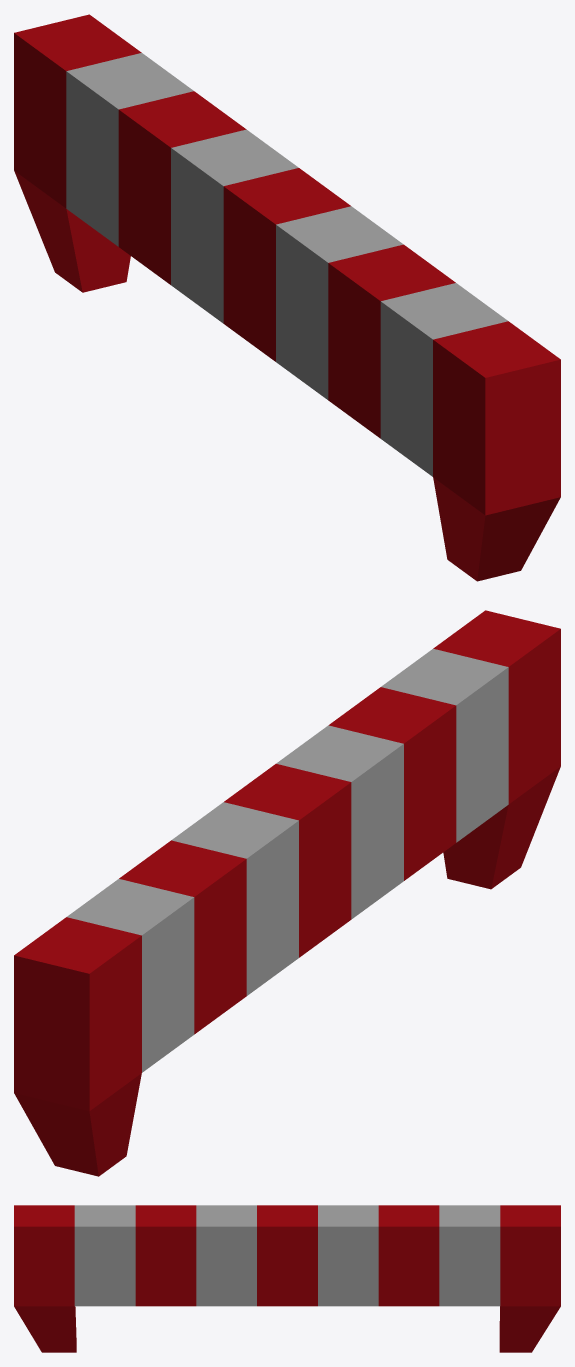
File: berigat 2.fbx
The picture shows the model from 3 angles, top to bottom: view 1: azimuth 30°, elevation 25°; view 2: azimuth 150°, elevation 25°; view 3: azimuth 270°, elevation 25°; orthographic projection. The views are drawn at different scales.
Visible parts, largest first — view 1: UCX_Object2; view 2: UCX_Object2; view 3: UCX_Object2.
Boxes of the visible parts, x1=… form: UCX_Object2: x1=14, y1=14, x2=560, y2=581; UCX_Object2: x1=14, y1=610, x2=560, y2=1176; UCX_Object2: x1=14, y1=1205, x2=560, y2=1352.
Bounding box in the file's own units: 115 × 327 × 1243.
